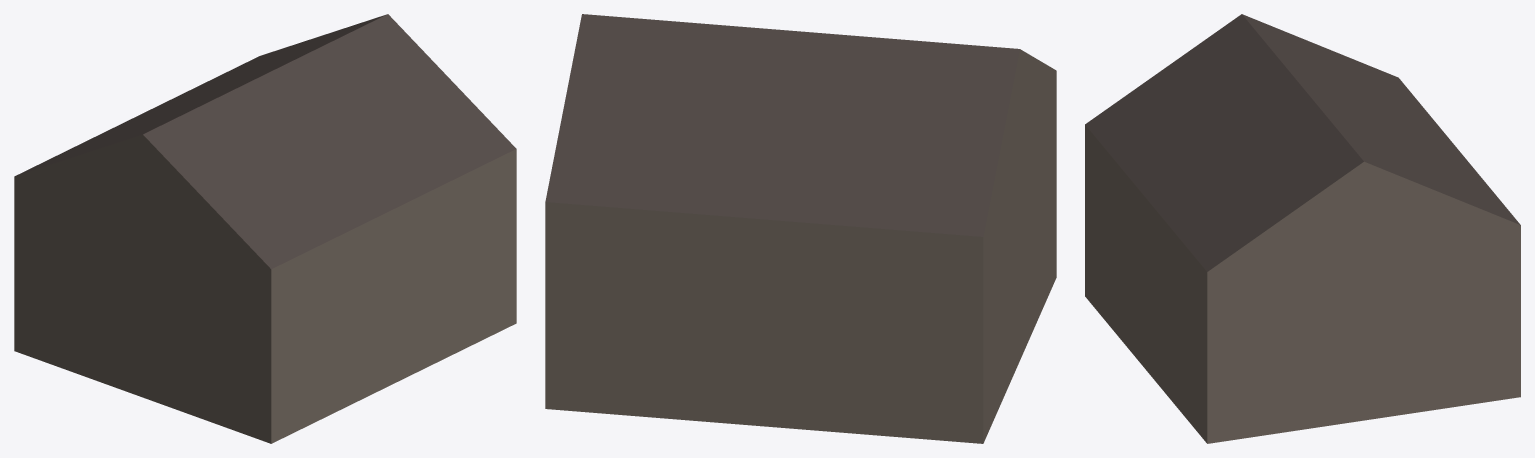
3 views of the same model, side by side, from view 1: azimuth 30°, elevation 25°; view 2: azimuth 150°, elevation 25°; view 3: azimuth 270°, elevation 25° (orthographic). The views are drawn at different scales.
Visible parts, largest first — view 1: HP-w1198840845; view 2: HP-w1198840845; view 3: HP-w1198840845.
Part boxes in pixels (left/top/right/bottom): HP-w1198840845: left=14, top=14, right=516, bottom=443; HP-w1198840845: left=545, top=14, right=1056, bottom=443; HP-w1198840845: left=1085, top=14, right=1520, bottom=443.
Size of the model in its own units: 14.56 by 9.04 by 13.79.
